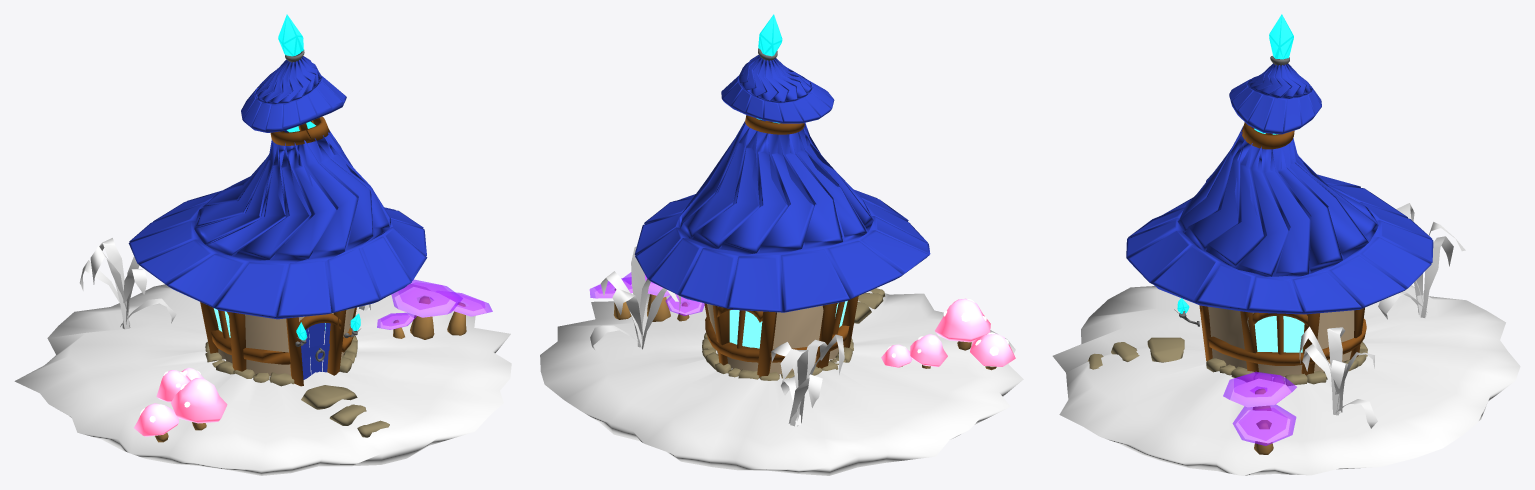
The picture shows the model from 3 angles, left to right: view 1: azimuth 30°, elevation 25°; view 2: azimuth 150°, elevation 25°; view 3: azimuth 270°, elevation 25°; orthographic projection. The views are drawn at different scales.
Visible parts, largest first — view 1: House, Ground, Mushroom, Mushroom 2, Plant 1, Ground rocks; view 2: House, Ground, Mushroom, Plant 1, PlaNt 2, Mushroom 2, Ground rocks; view 3: House, Ground, Mushroom 2, PlaNt 2, Plant 1, Ground rocks.
Boxes of the visible parts, x1,y1,x2,y2 form: House: (128, 14, 427, 386); Ground: (14, 284, 511, 475); Mushroom: (134, 367, 227, 442); Mushroom 2: (377, 279, 492, 339); Plant 1: (79, 238, 176, 329); Ground rocks: (301, 385, 389, 437); House: (634, 14, 930, 380); Ground: (540, 291, 1023, 475); Mushroom: (881, 298, 1015, 370); Plant 1: (771, 334, 844, 426); PlaNt 2: (590, 246, 680, 350); Mushroom 2: (589, 272, 704, 321); Ground rocks: (854, 288, 885, 323); House: (1126, 14, 1433, 385); Ground: (1052, 285, 1520, 475); Mushroom 2: (1223, 371, 1296, 454); PlaNt 2: (1299, 326, 1377, 428); Plant 1: (1378, 203, 1465, 319); Ground rocks: (1087, 337, 1184, 369).
Size of the model in its own units: 7.33 by 6.07 by 6.83.
